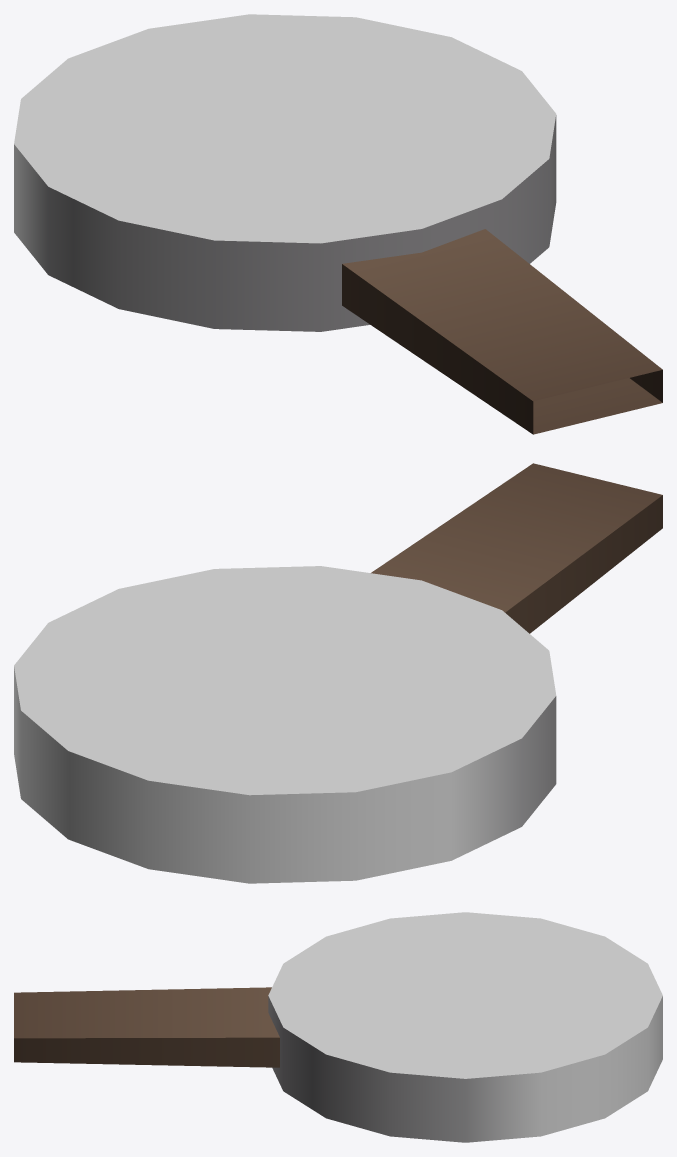
Rendered from TourGuideSign.fbx.
The picture shows the model from 3 angles, top to bottom: view 1: azimuth 30°, elevation 25°; view 2: azimuth 150°, elevation 25°; view 3: azimuth 270°, elevation 25°; orthographic projection. The views are drawn at different scales.
Visible parts, largest first — view 1: TourGuideSign; view 2: TourGuideSign; view 3: TourGuideSign.
Part boxes in pixels (<box>): TourGuideSign: <box>14,14,662,434</box>; TourGuideSign: <box>14,463,662,883</box>; TourGuideSign: <box>14,912,662,1142</box>.
Size of the model in its own units: 47.14 by 8.41 by 77.5.
